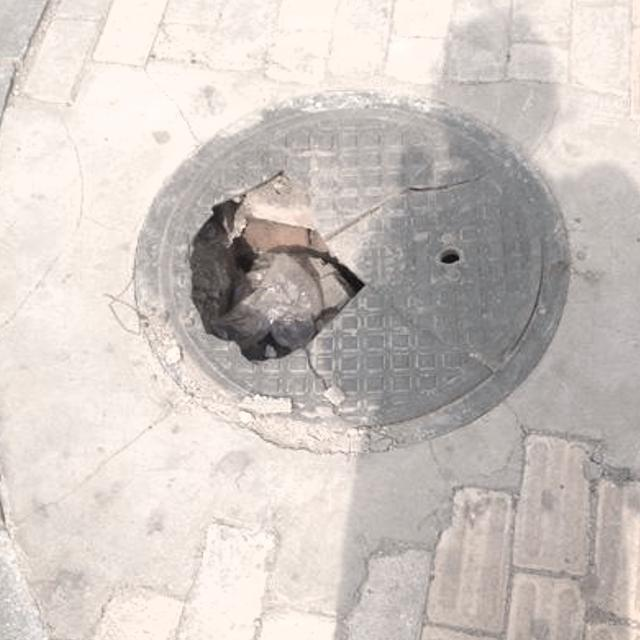broke: (107, 71, 590, 476)
